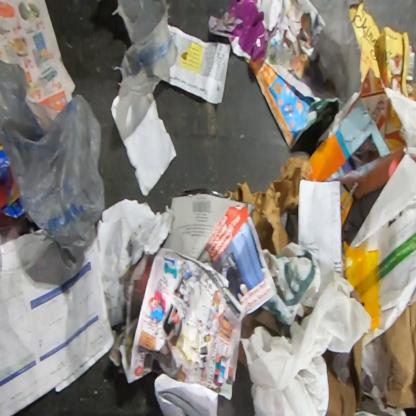cardboard: (346, 0, 415, 154), (223, 154, 310, 258), (308, 101, 392, 183), (260, 240, 322, 326), (207, 0, 284, 64), (380, 286, 415, 411), (321, 338, 363, 415), (0, 141, 25, 221), (241, 306, 291, 340), (238, 342, 248, 370)
soft_plastic: (0, 59, 108, 251), (110, 0, 179, 101), (342, 239, 380, 332)
